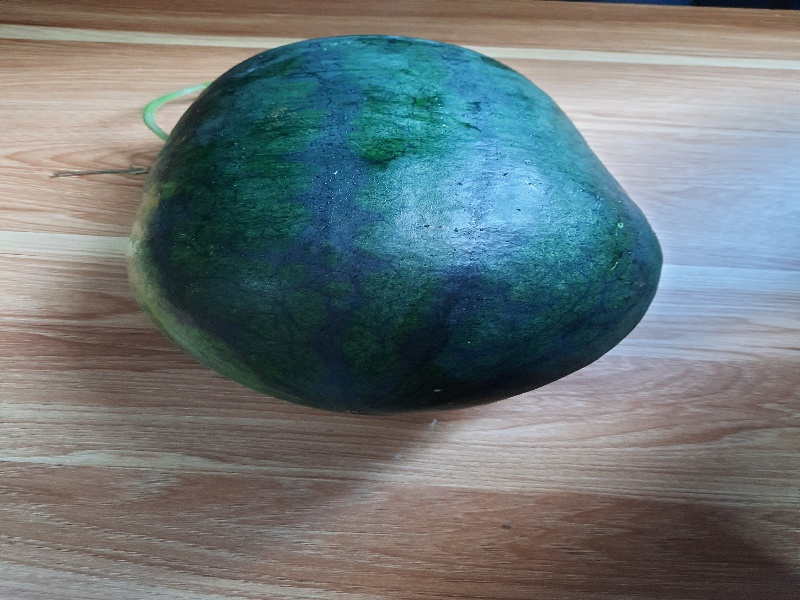fruit: (121, 35, 665, 419)
